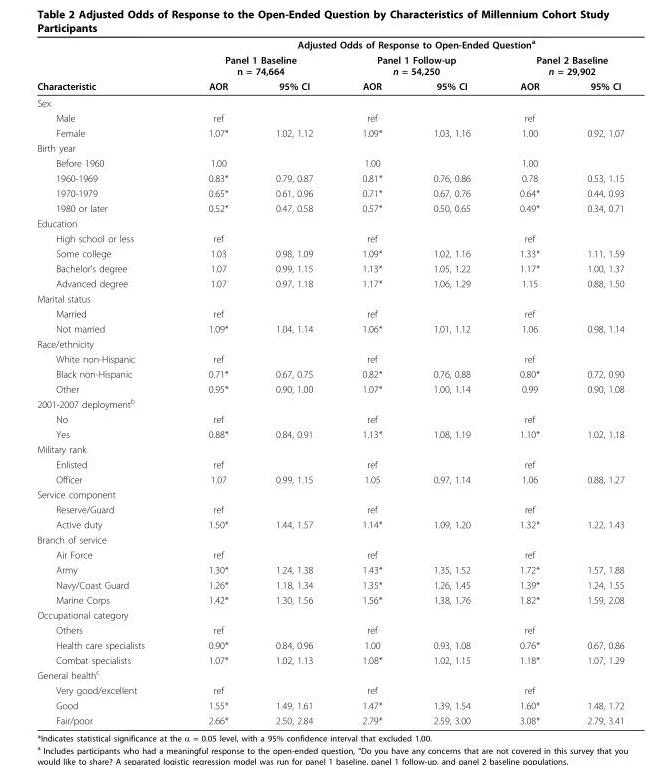table: (36, 37, 623, 725)
table column: (36, 37, 175, 725), (407, 37, 494, 725), (251, 37, 336, 725), (175, 37, 251, 725), (336, 37, 407, 725), (494, 37, 562, 725), (562, 37, 623, 725)
table column header: (36, 37, 623, 94)
table projected row header: (36, 94, 623, 110), (36, 395, 623, 411), (36, 666, 623, 682), (36, 140, 623, 155), (36, 215, 623, 230), (36, 290, 623, 305), (36, 336, 623, 351), (36, 441, 623, 456), (36, 486, 623, 501), (36, 531, 623, 546), (36, 607, 623, 622)
table row: (36, 51, 623, 78), (36, 78, 623, 94), (36, 94, 623, 110), (36, 320, 623, 336), (36, 395, 623, 411), (36, 561, 623, 577), (36, 666, 623, 682), (36, 110, 623, 125), (36, 125, 623, 140), (36, 140, 623, 155), (36, 155, 623, 170), (36, 170, 623, 185), (36, 185, 623, 200), (36, 200, 623, 215), (36, 215, 623, 230), (36, 230, 623, 245), (36, 245, 623, 260), (36, 260, 623, 275), (36, 275, 623, 290), (36, 290, 623, 305), (36, 305, 623, 320), (36, 336, 623, 351), (36, 351, 623, 366), (36, 366, 623, 381), (36, 411, 623, 426), (36, 426, 623, 441), (36, 441, 623, 456), (36, 456, 623, 471), (36, 471, 623, 486), (36, 486, 623, 501), (36, 501, 623, 516), (36, 516, 623, 531), (36, 531, 623, 546), (36, 546, 623, 561), (36, 577, 623, 592), (36, 592, 623, 607), (36, 607, 623, 622), (36, 622, 623, 637), (36, 637, 623, 652), (36, 682, 623, 697), (36, 697, 623, 712), (36, 37, 623, 51), (36, 381, 623, 395), (36, 652, 623, 666), (36, 712, 623, 725)
table spanning cell: (36, 37, 175, 94), (175, 37, 623, 51), (175, 51, 336, 78), (336, 51, 494, 78), (494, 51, 623, 78)
